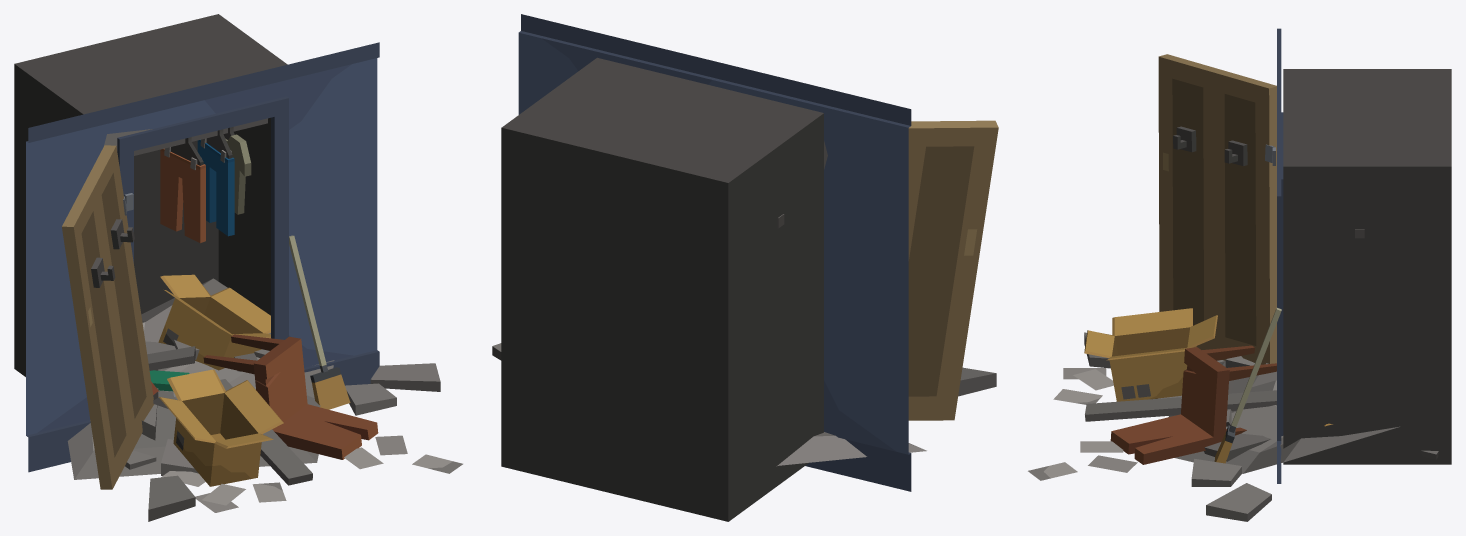
File: AI_Env_Wall_Blue_Closet.fbx
The picture shows the model from 3 angles, left to right: view 1: azimuth 30°, elevation 25°; view 2: azimuth 150°, elevation 25°; view 3: azimuth 270°, elevation 25°; orthographic projection. The views are drawn at different scales.
Parts seen in each view (by area): view 1: AI_Env_Wall_Blue_Closet; view 2: AI_Env_Wall_Blue_Closet; view 3: AI_Env_Wall_Blue_Closet.
Part boxes in pixels (left/top/right/bottom): AI_Env_Wall_Blue_Closet: left=14, top=14, right=462, bottom=521; AI_Env_Wall_Blue_Closet: left=492, top=14, right=998, bottom=521; AI_Env_Wall_Blue_Closet: left=1028, top=28, right=1451, bottom=521.
Bounding box in the file's own units: 5.91 × 4.69 × 5.35.
